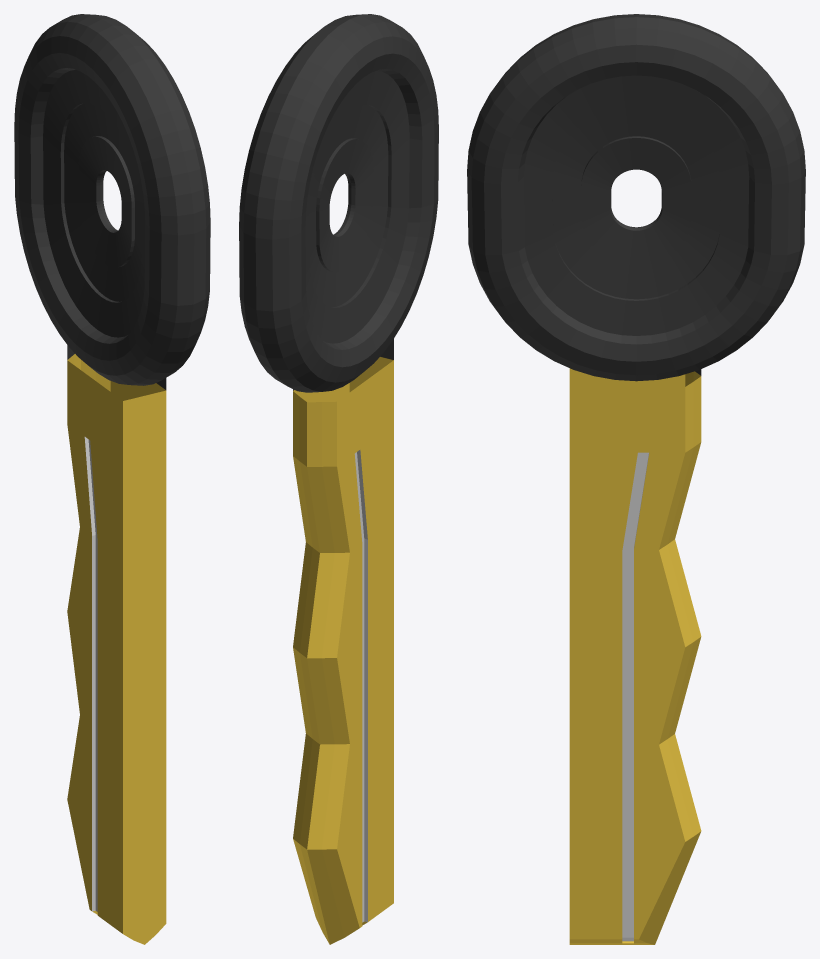
Rendered from chave.fbx.
3 renders of one model, left to right at view 1: azimuth 30°, elevation 25°; view 2: azimuth 150°, elevation 25°; view 3: azimuth 270°, elevation 25°, orthographic. The views are drawn at different scales.
Visible parts, largest first — view 1: Chave Plástico, Chave Metal, Chave Plástico 3, Chave Metal 2; view 2: Chave Plástico, Chave Metal, Chave Plástico 3, Chave Metal 2; view 3: Chave Plástico, Chave Metal, Chave Plástico 3, Chave Metal 2.
Part boxes in pixels (left/top/right/bottom): Chave Plástico: left=14, top=14, right=210, bottom=385; Chave Metal: left=67, top=354, right=166, bottom=944; Chave Plástico 3: left=64, top=103, right=141, bottom=301; Chave Metal 2: left=84, top=437, right=97, bottom=911; Chave Plástico: left=239, top=14, right=438, bottom=392; Chave Metal: left=293, top=357, right=393, bottom=944; Chave Plástico 3: left=309, top=105, right=388, bottom=307; Chave Metal 2: left=354, top=450, right=367, bottom=922; Chave Plástico: left=467, top=14, right=805, bottom=381; Chave Metal: left=569, top=368, right=701, bottom=944; Chave Plástico 3: left=552, top=106, right=720, bottom=299; Chave Metal 2: left=622, top=452, right=649, bottom=941.
Bounding box in the file's own units: 5.24 × 79.08 × 26.18.
